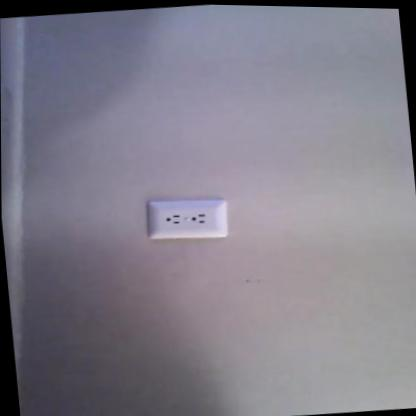OUTLET: (145, 192, 231, 244)
